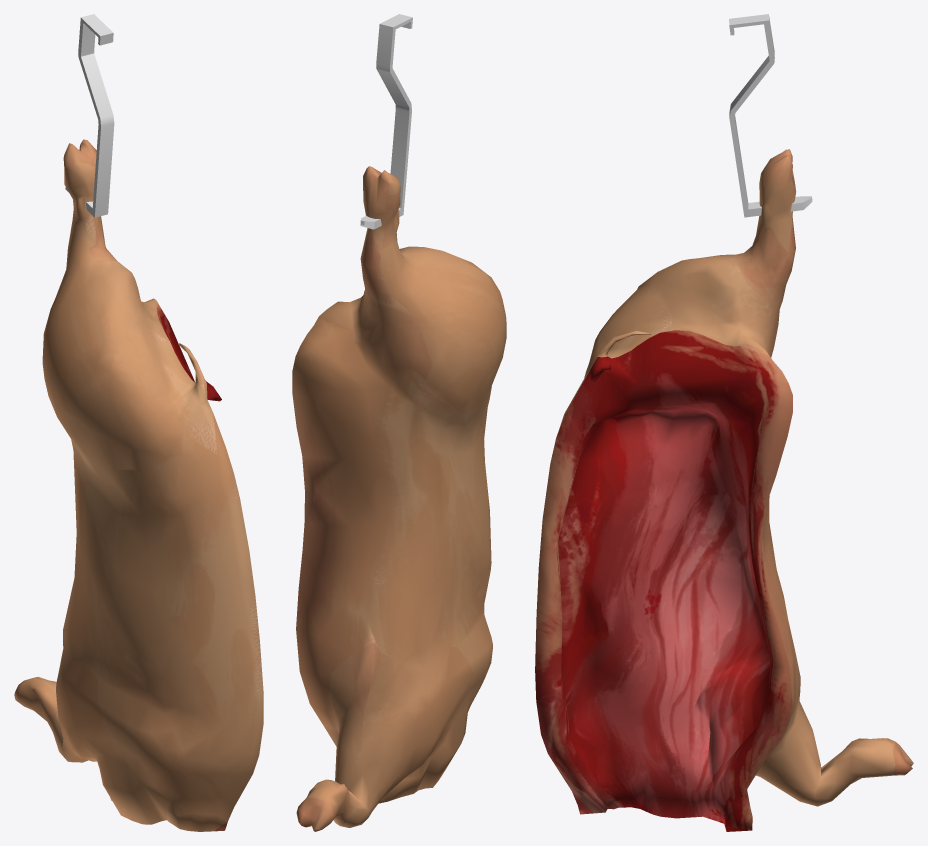
File: Rosebud.fbx
3 renders of one model, left to right at view 1: azimuth 30°, elevation 25°; view 2: azimuth 150°, elevation 25°; view 3: azimuth 270°, elevation 25°, orthographic. The views are drawn at different scales.
Parts seen in each view (by area): view 1: Object_9; view 2: Object_9; view 3: Object_9.
Boxes of the visible parts, x1,y1,x2,y2 form: Object_9: (14, 14, 263, 831); Object_9: (292, 14, 506, 831); Object_9: (535, 14, 913, 831).
Size of the model in its own units: 44.62 by 221 by 95.9.
